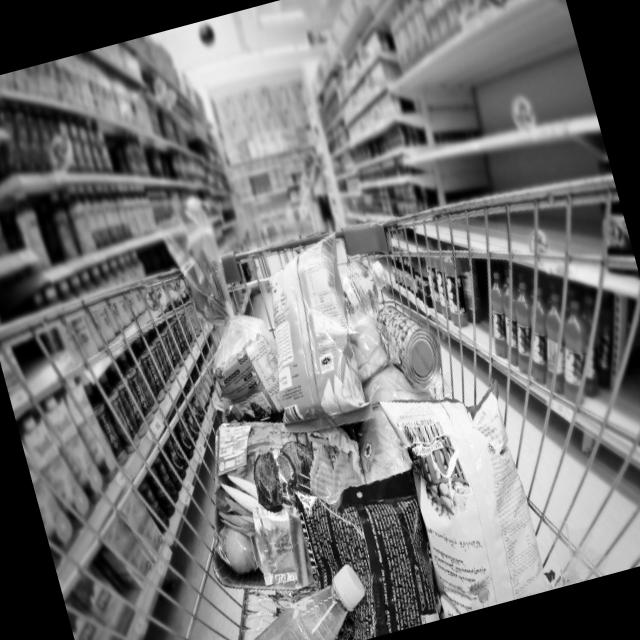bap cai: (346, 396, 420, 488)
bread: (168, 218, 290, 420)
oil: (330, 238, 400, 316)
